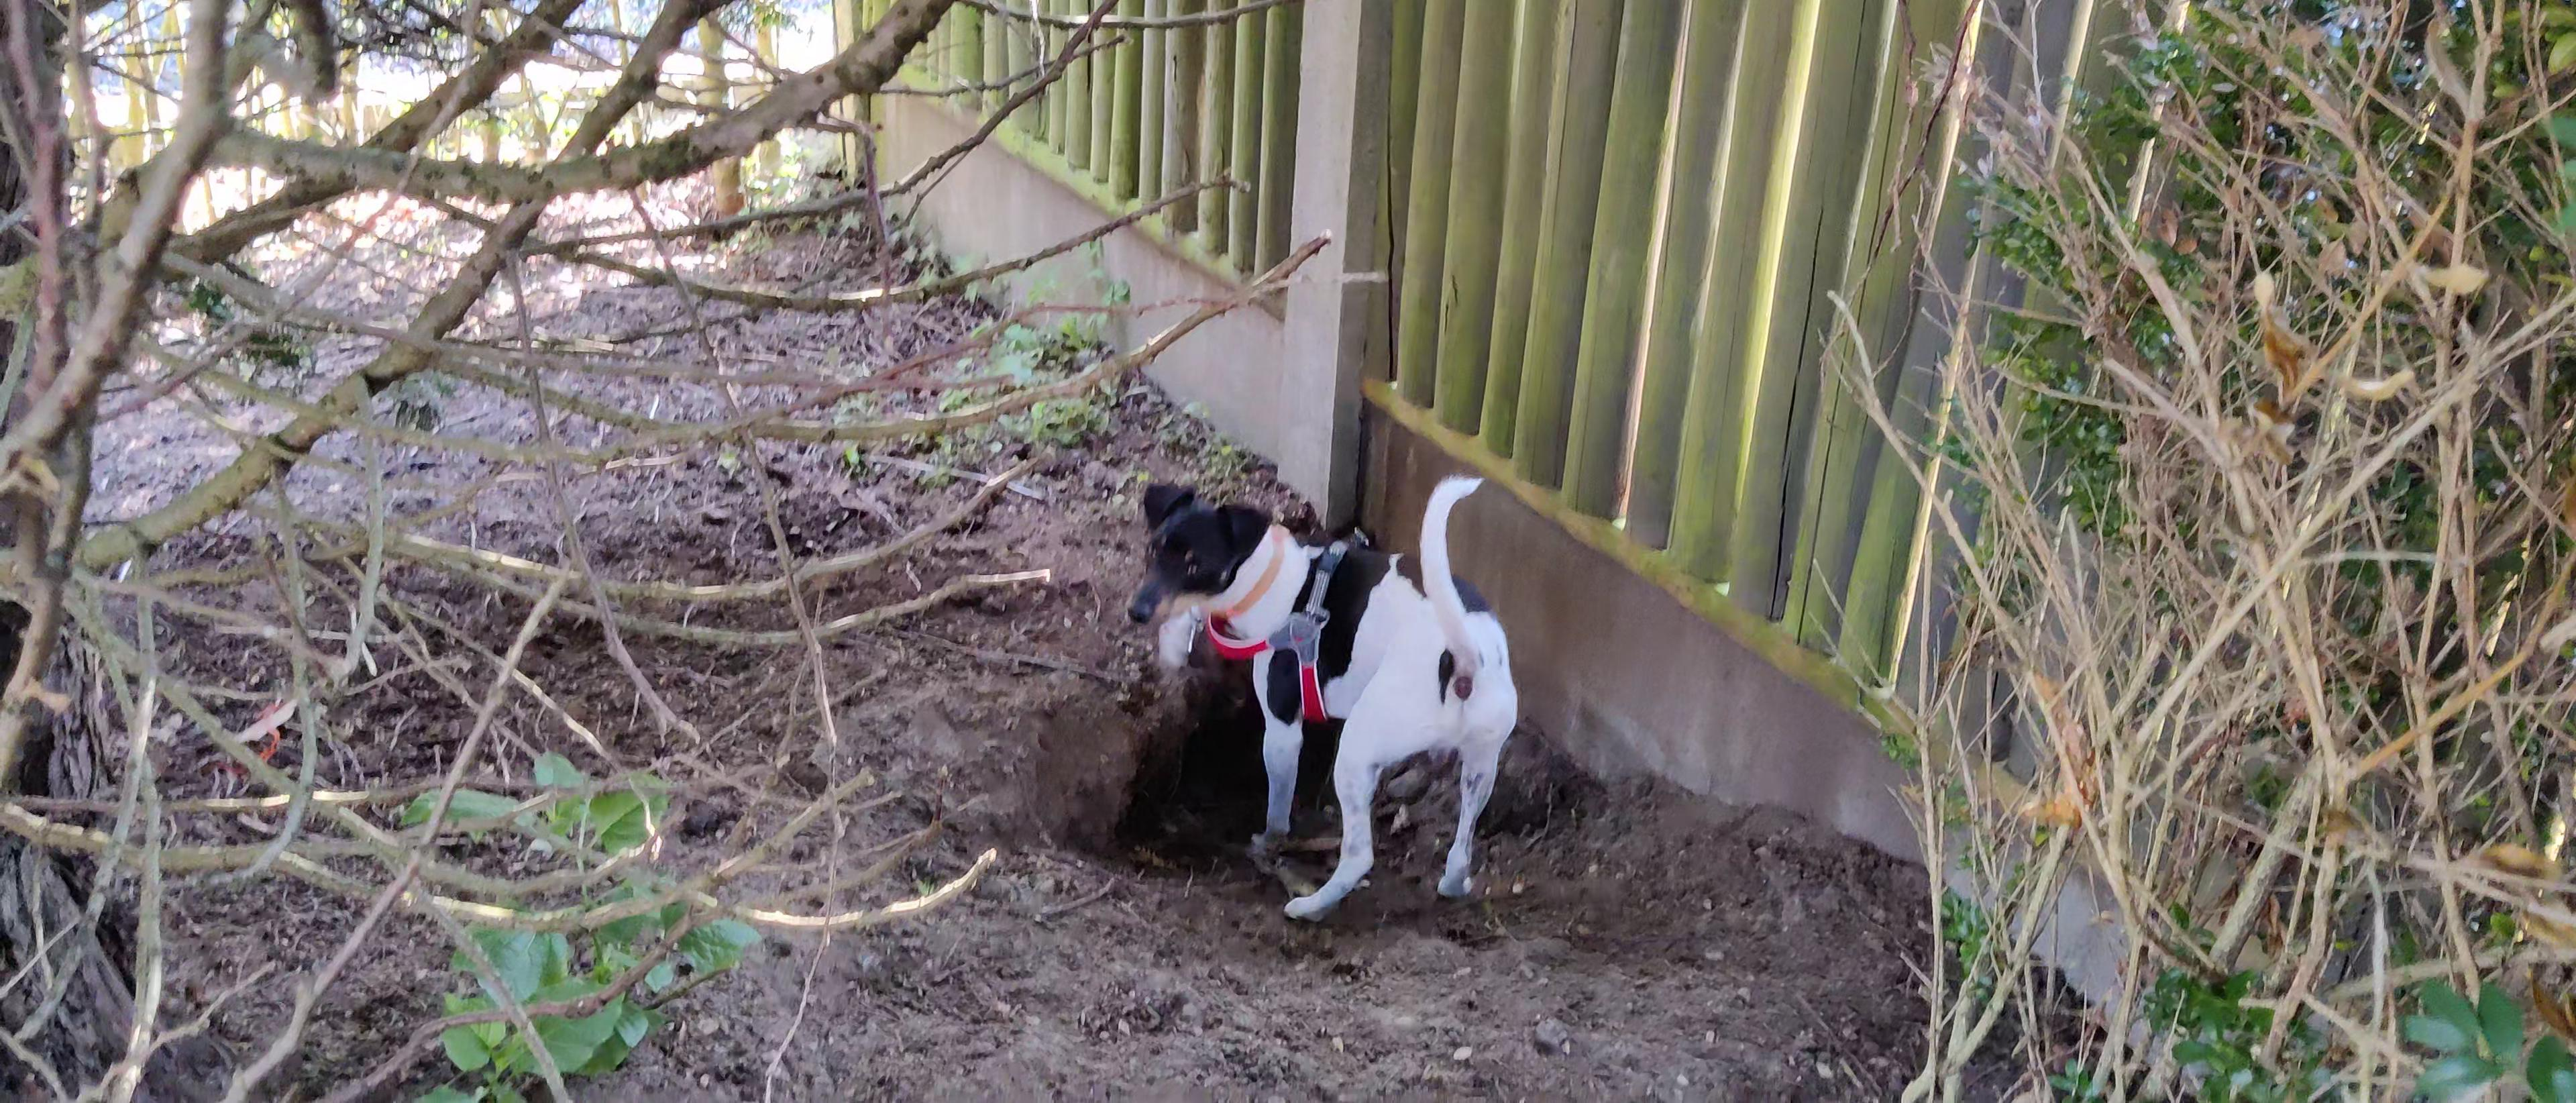Dog: (1092, 429, 1536, 930)
